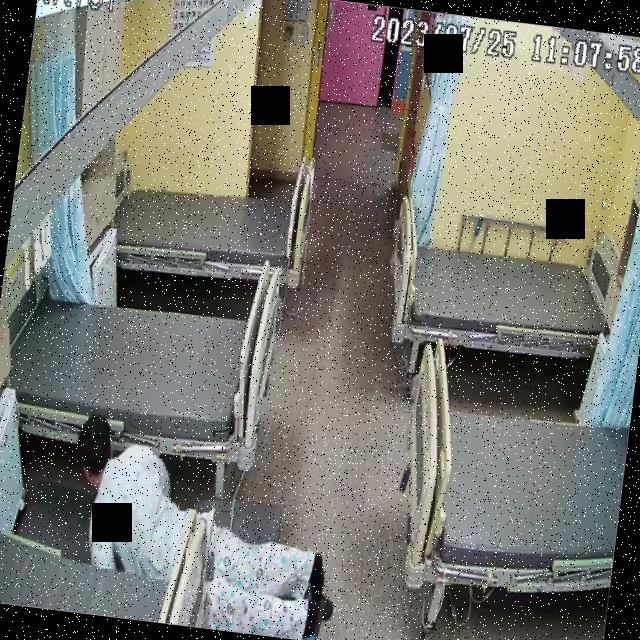bed: (389, 336, 637, 606), (0, 280, 278, 463), (380, 221, 627, 368), (110, 168, 310, 288)
fall: (55, 410, 353, 640)
patient: (55, 410, 351, 640)
